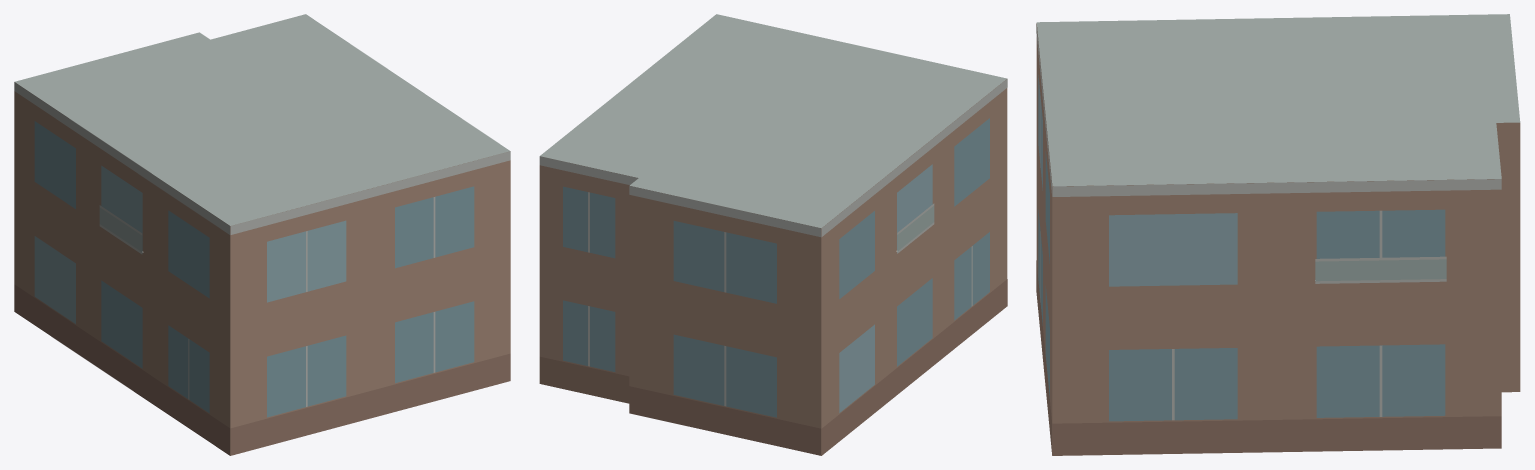
The model's file is survey-upis-32807274.glb.
3 renders of one model, left to right at view 1: azimuth 30°, elevation 25°; view 2: azimuth 150°, elevation 25°; view 3: azimuth 270°, elevation 25°, orthographic. The views are drawn at different scales.
Visible parts, largest first — view 1: survey-upis-32807274.tmp; view 2: survey-upis-32807274.tmp; view 3: survey-upis-32807274.tmp.
Boxes of the visible parts, <box> form: survey-upis-32807274.tmp: <box>14,14,510,455</box>; survey-upis-32807274.tmp: <box>539,14,1007,455</box>; survey-upis-32807274.tmp: <box>1036,14,1520,455</box>.
Size of the model in its own units: 8.38 by 6.1 by 9.93.
